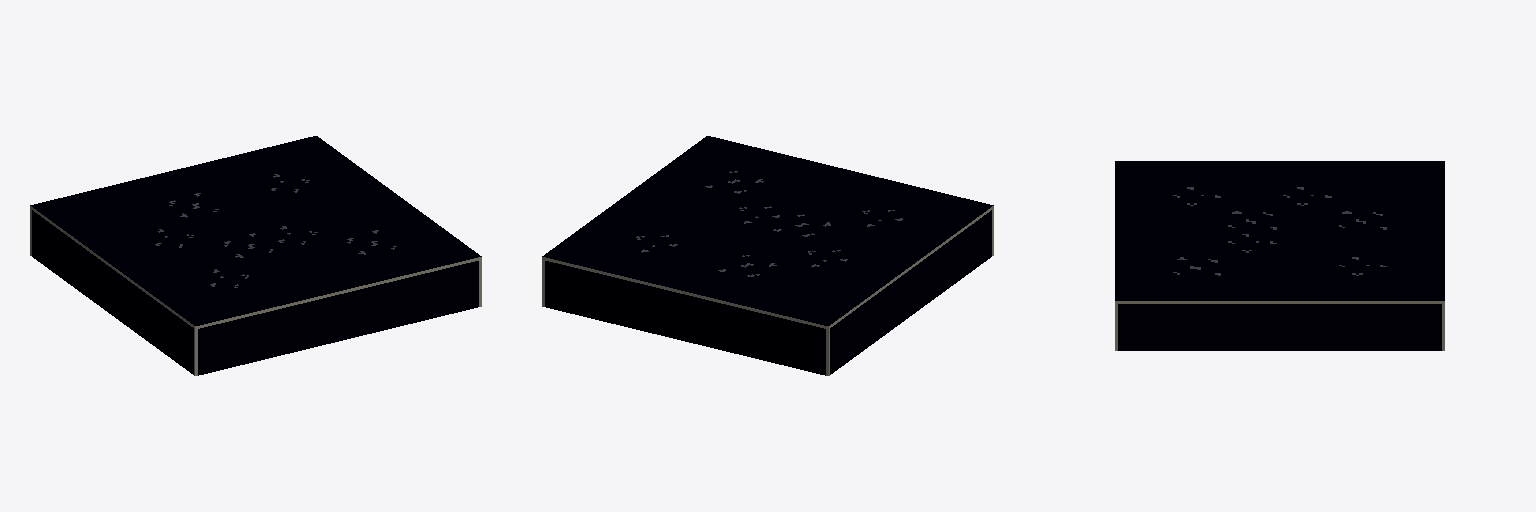
3 views of the same model, side by side, from view 1: azimuth 30°, elevation 25°; view 2: azimuth 150°, elevation 25°; view 3: azimuth 270°, elevation 25° (orthographic).
Visible parts, largest first — view 1: Default; view 2: Default; view 3: Default.
Part boxes in pixels (x1,y1,x2,y2): Default: (30,136,481,375); Default: (542,136,993,375); Default: (1115,161,1444,350).
Size of the model in its own units: 6 by 1 by 6.
Materials: 1 (1 with a texture image).